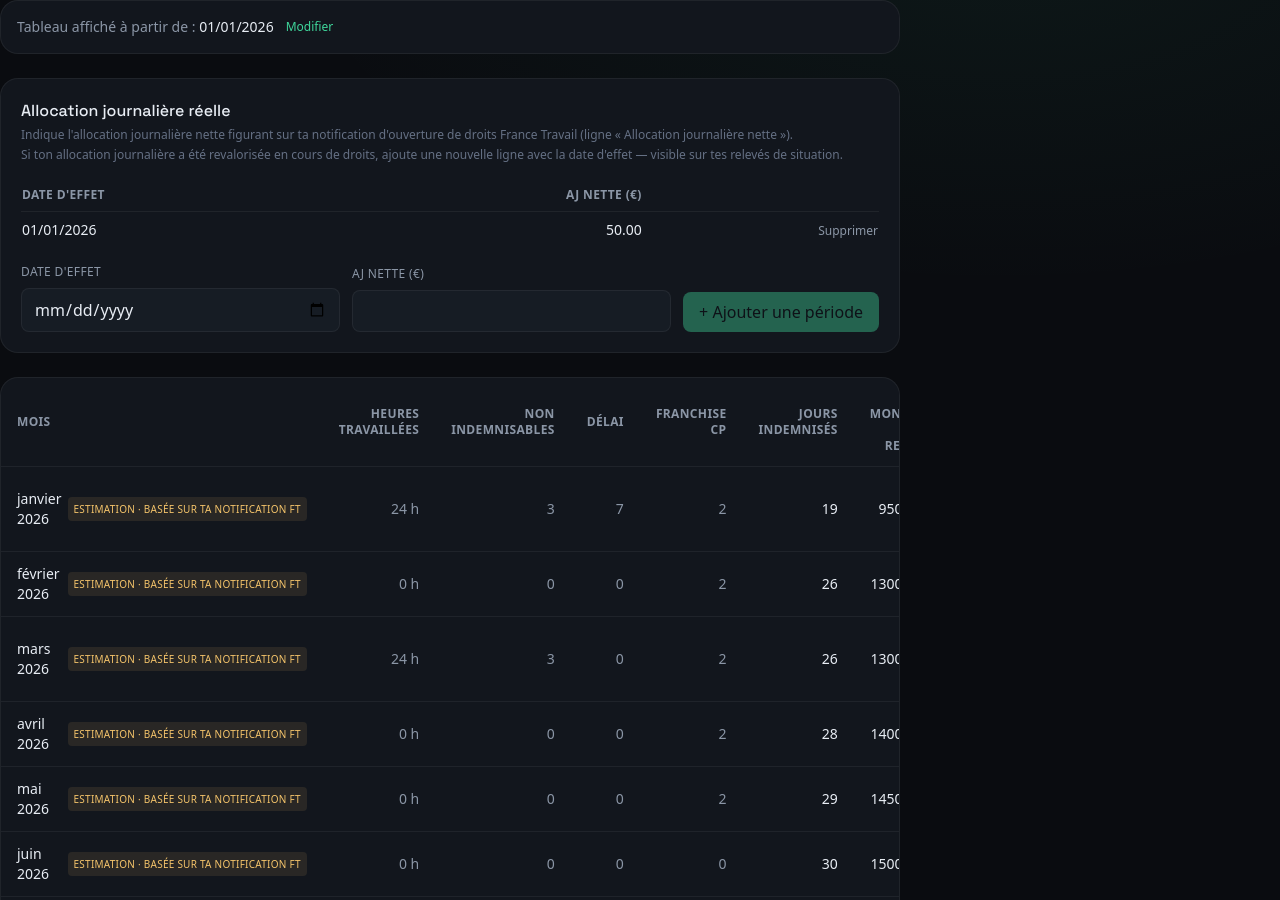
Scenario: SoldeRecap — bouton Modifier (RevenusMensuels.tsx, jamais vérifié qu'à la main jusqu'ici, cf. commit 2edb88e) › Annuler ne transmet rien et restaure la date affichée d'origine
Click the button "Modifier" at x=309, y=27, box [286, 19, 333, 35]
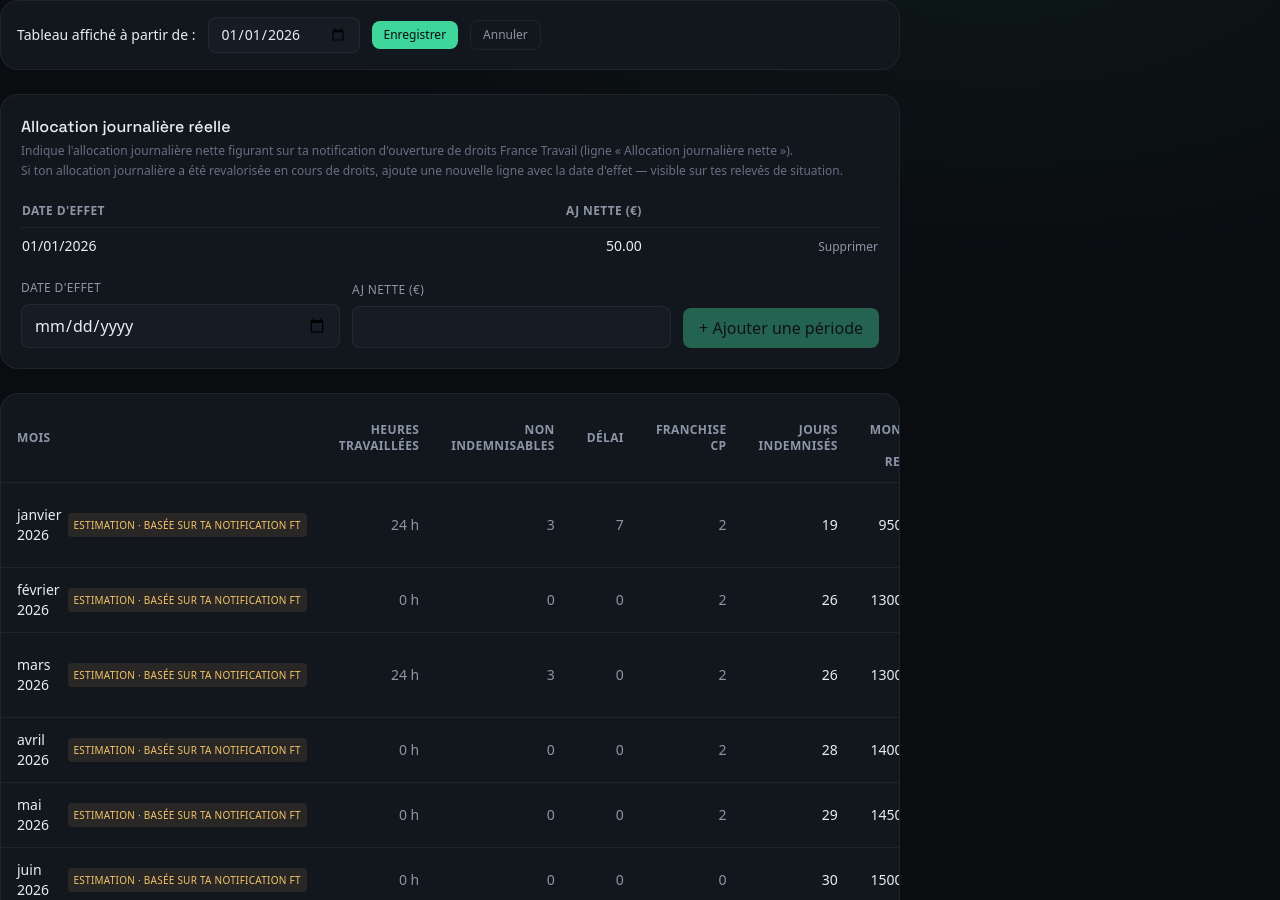
Type "2026-07-01" into the date field labelled "Tableau affiché à partir de :" at x=284, y=35, box [208, 17, 360, 53]
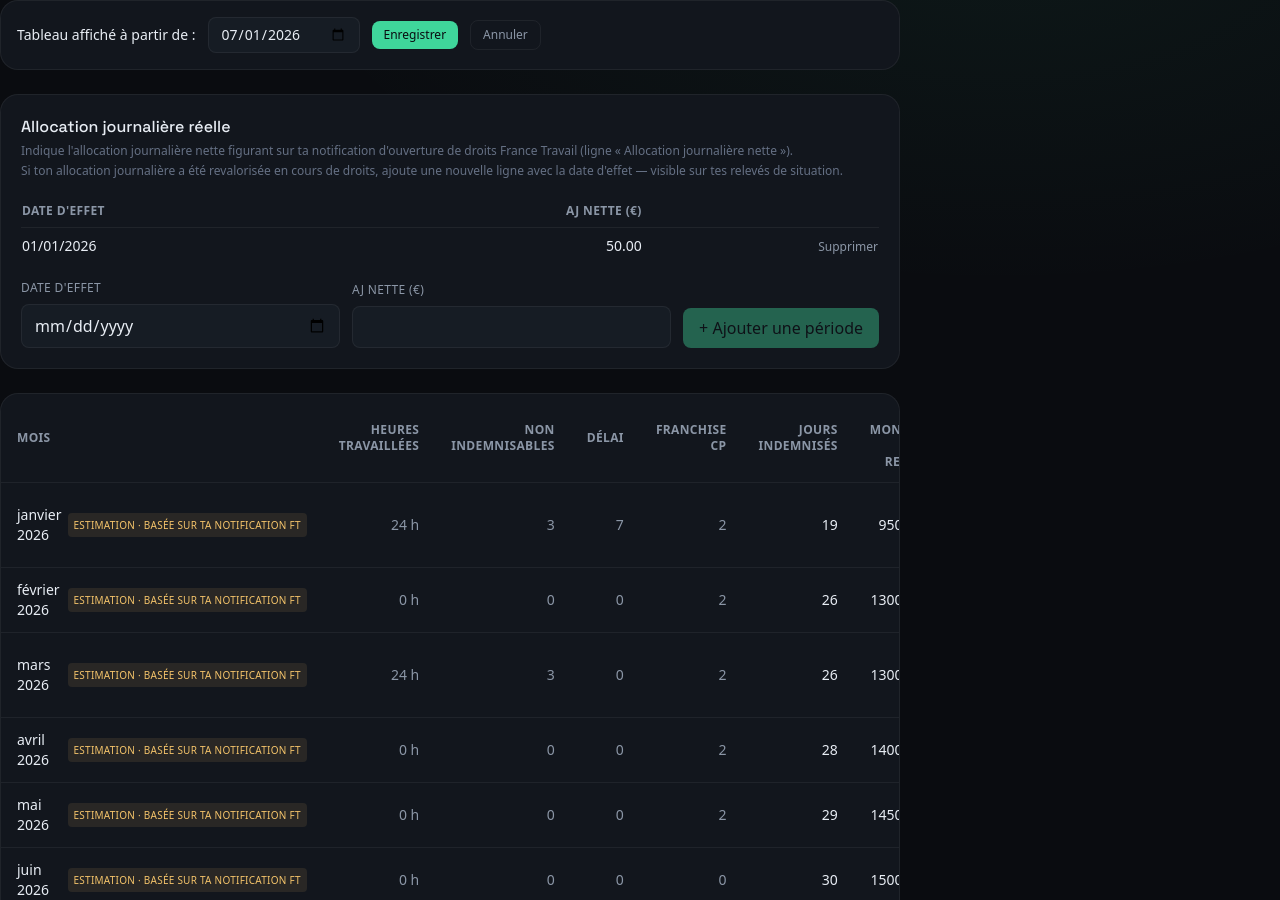
Click the button "Annuler" at x=506, y=35, box [470, 20, 541, 50]
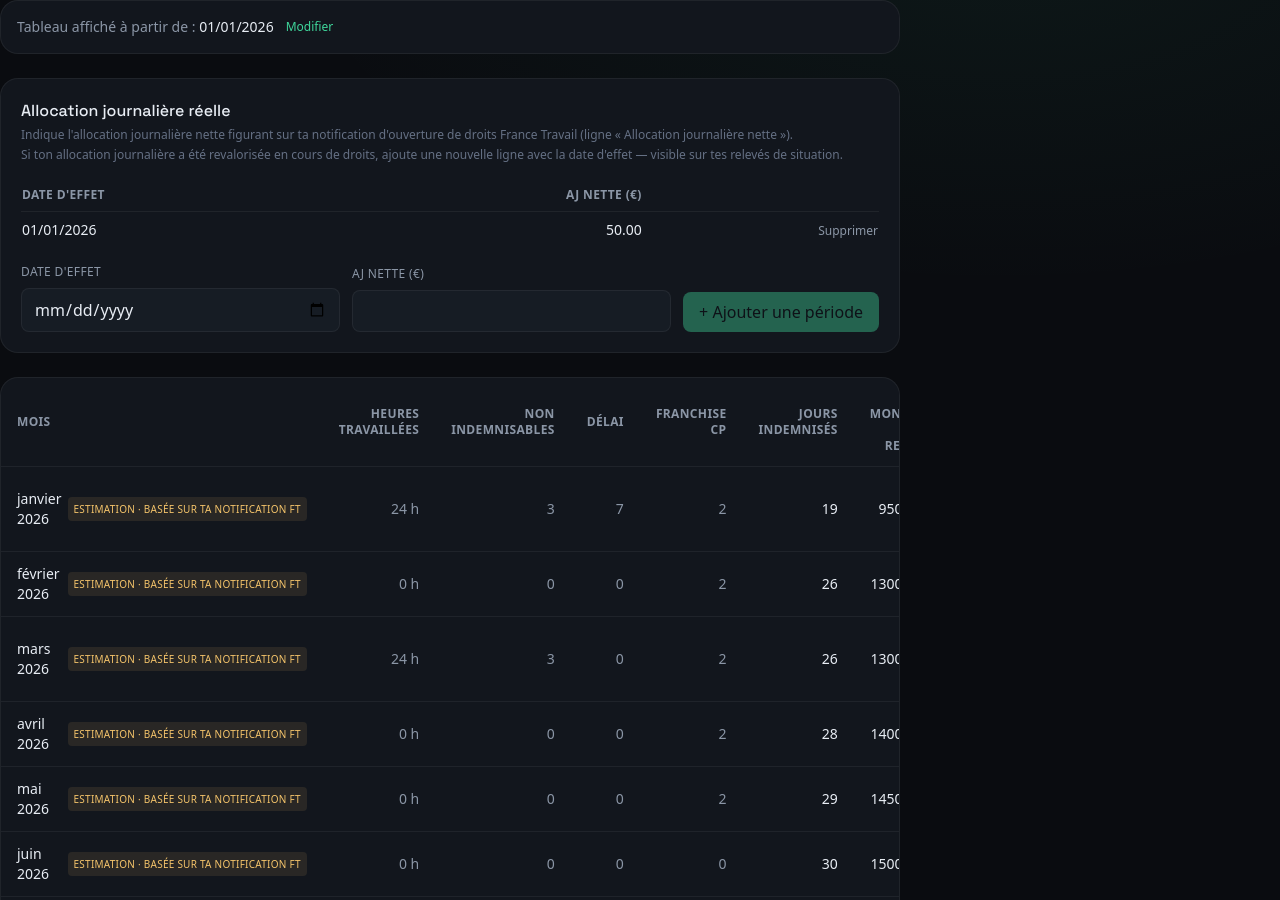
Check: the text "01/01/2026" is shown, box [199, 17, 274, 36]
